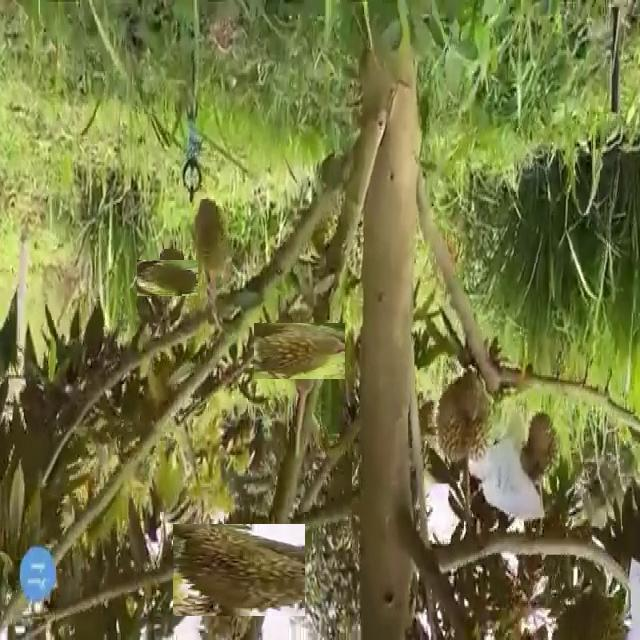durian: (182, 514, 295, 626), (434, 370, 496, 470), (263, 314, 336, 389), (516, 401, 564, 488), (191, 194, 230, 278), (144, 253, 192, 303)
